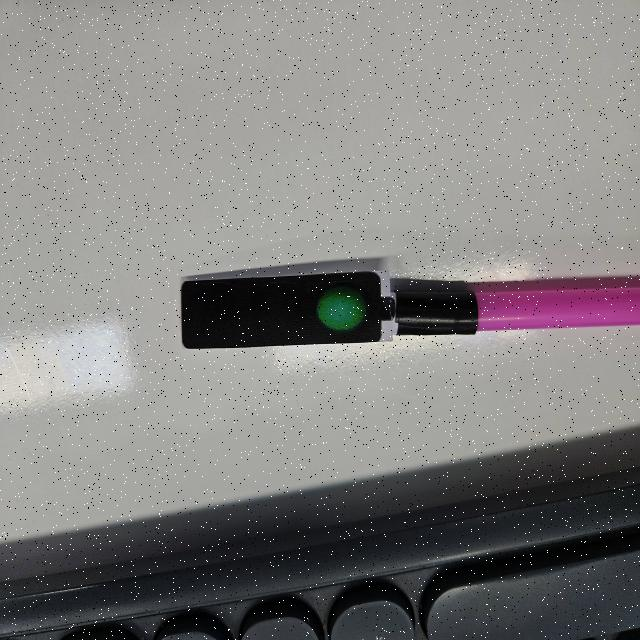traffic light: (180, 260, 397, 351)
